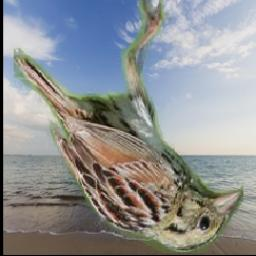Sparrow: (14, 1, 243, 254)
